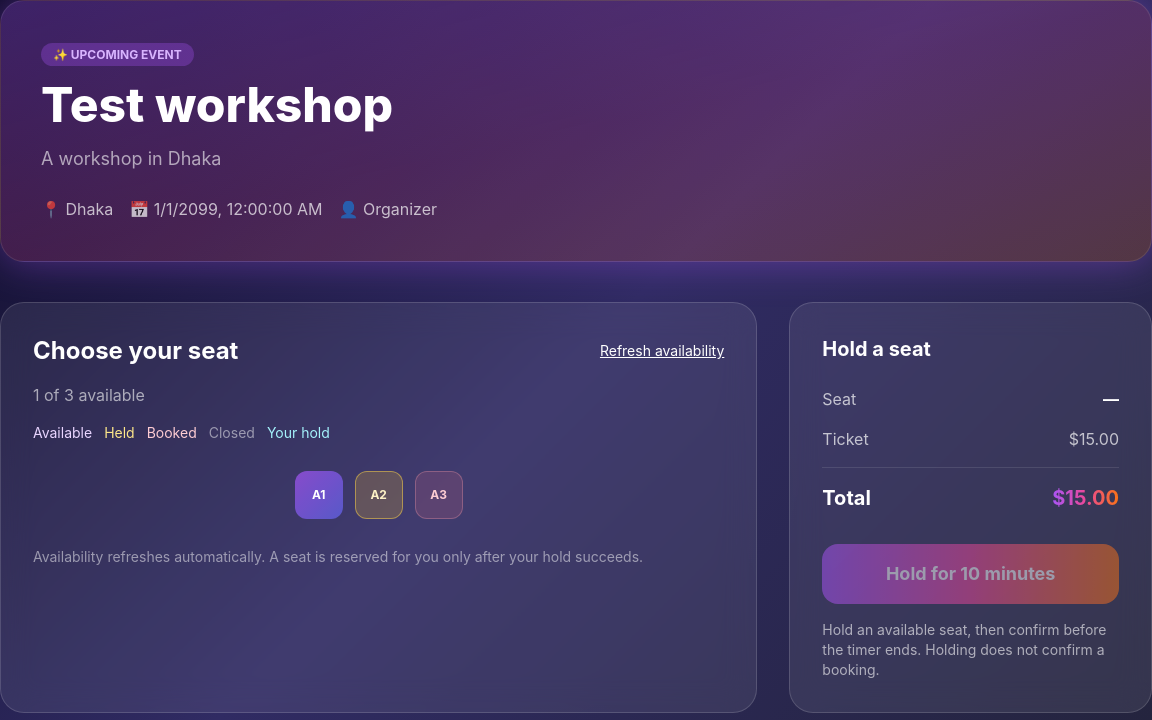
Scenario: holds then confirms an available seat, disables occupied seats, and refreshes availability
The width and height of the screenshot is (1152, 720).
Expected: the button named "Seat A3, booked" is disabled, [415,471,463,519]
Click the button named "Seat A1, available" at (319, 495), box [295,471,343,519]
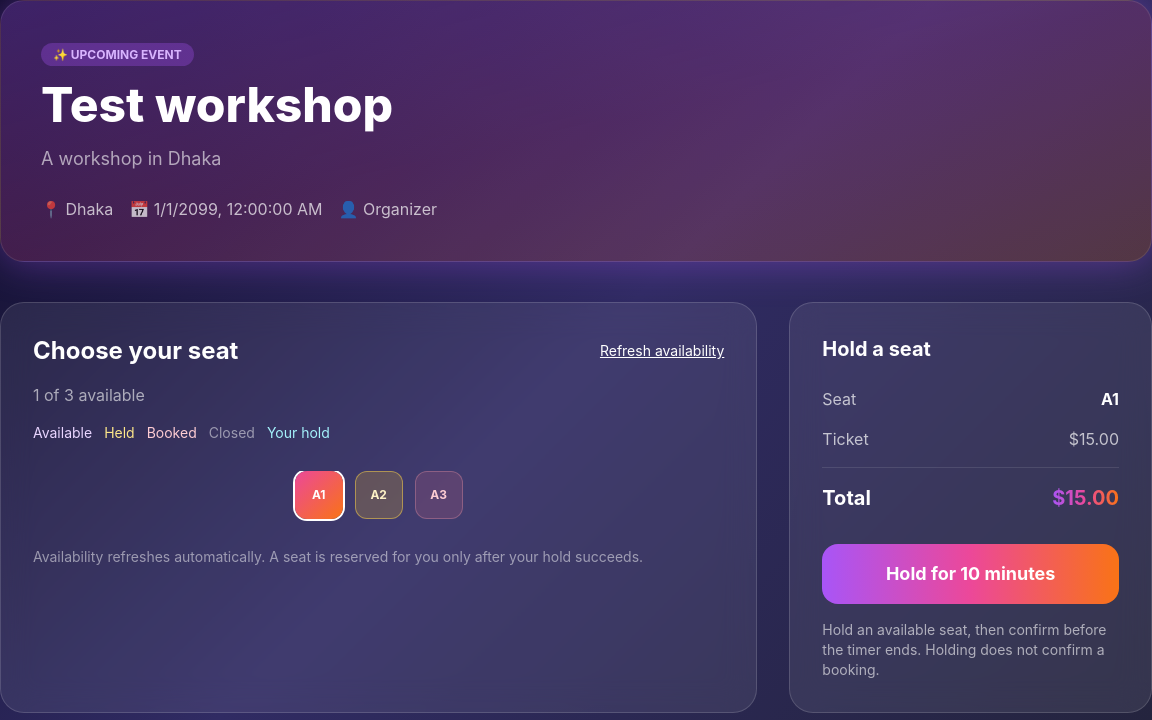
Click the button "Hold for 10 minutes" at (971, 574), box [822,544,1119,604]
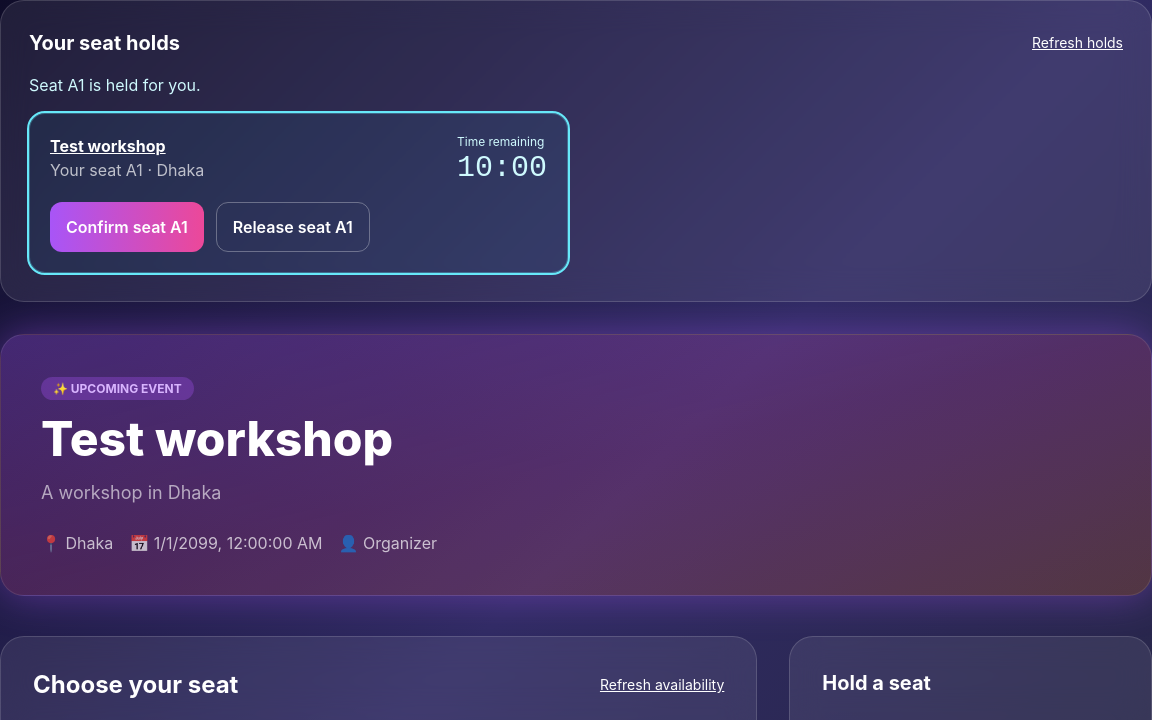
Click the button "Confirm seat A1" at (127, 227), box [50,202,204,252]
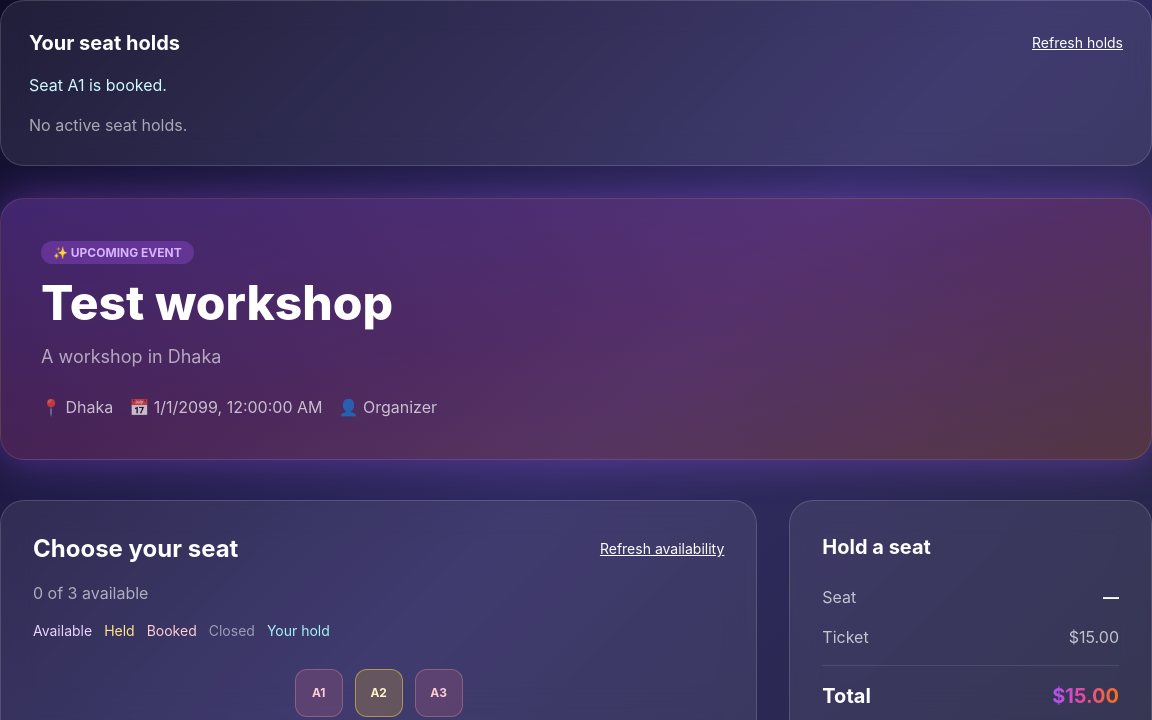
Expected: the text "Seat A1 is booked." is shown, [29,75,167,95]
Expected: the button named "Seat A1, booked" is shown, [295,669,343,717]
